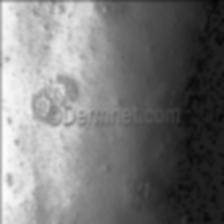Non-Cancerous Skin Condition: (0, 27, 71, 102), (85, 0, 146, 53), (117, 159, 159, 224)
